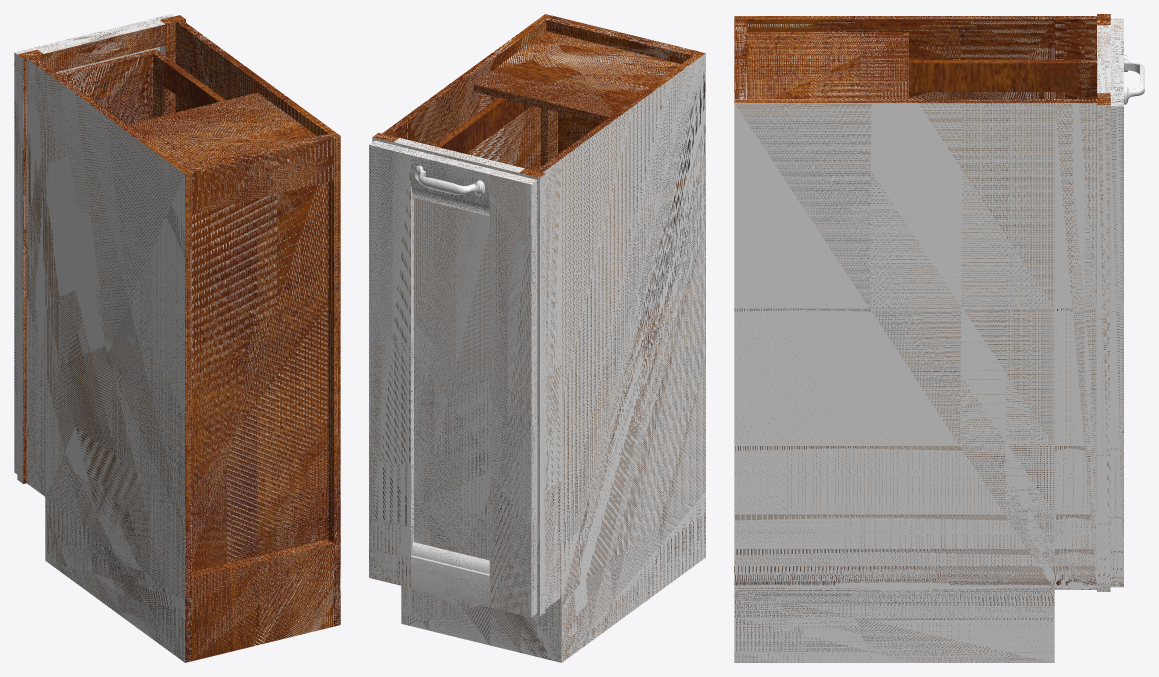
The picture shows the model from 3 angles, left to right: view 1: azimuth 30°, elevation 25°; view 2: azimuth 150°, elevation 25°; view 3: azimuth 270°, elevation 25°; orthographic projection. The views are drawn at different scales.
Parts seen in each view (by area): view 1: mesh7_mesh7-geometry, mesh4_mesh4-geometry, mesh12_mesh12-geometry, mesh8_mesh8-geometry, mesh10_mesh10-geometry, mesh6_mesh6-geometry, mesh14_mesh14-geometry, mesh3_mesh3-geometry, mesh2_mesh2-geometry, mesh18_mesh18-geometry, mesh5_mesh5-geometry, mesh22_mesh22-geometry (+3 smaller); view 2: mesh7_mesh7-geometry, mesh26_mesh26-geometry, mesh22_mesh22-geometry, mesh24_mesh24-geometry, mesh14_mesh14-geometry, mesh8_mesh8-geometry, mesh10_mesh10-geometry, mesh6_mesh6-geometry, mesh13_mesh13-geometry, mesh2_mesh2-geometry, mesh23_mesh23-geometry, mesh21_mesh21-geometry (+6 smaller); view 3: mesh10_mesh10-geometry, mesh11_mesh11-geometry, mesh9_mesh9-geometry, mesh14_mesh14-geometry, mesh7_mesh7-geometry, mesh2_mesh2-geometry, mesh24_mesh24-geometry, mesh15_mesh15-geometry, mesh6_mesh6-geometry, mesh3_mesh3-geometry, mesh5_mesh5-geometry, mesh17_mesh17-geometry (+1 smaller).
Boxes of the visible parts, bbox=[...] form: mesh7_mesh7-geometry: bbox=[45, 70, 191, 598]; mesh4_mesh4-geometry: bbox=[192, 181, 328, 572]; mesh12_mesh12-geometry: bbox=[192, 539, 333, 661]; mesh8_mesh8-geometry: bbox=[45, 497, 191, 662]; mesh10_mesh10-geometry: bbox=[194, 34, 340, 562]; mesh6_mesh6-geometry: bbox=[26, 56, 51, 496]; mesh14_mesh14-geometry: bbox=[127, 92, 316, 167]; mesh3_mesh3-geometry: bbox=[186, 133, 333, 214]; mesh2_mesh2-geometry: bbox=[17, 15, 185, 483]; mesh18_mesh18-geometry: bbox=[57, 51, 153, 124]; mesh5_mesh5-geometry: bbox=[38, 20, 165, 72]; mesh22_mesh22-geometry: bbox=[14, 42, 60, 473]; mesh7_mesh7-geometry: bbox=[555, 51, 705, 596]; mesh26_mesh26-geometry: bbox=[414, 198, 489, 560]; mesh22_mesh22-geometry: bbox=[489, 170, 537, 617]; mesh24_mesh24-geometry: bbox=[369, 140, 416, 587]; mesh14_mesh14-geometry: bbox=[473, 31, 681, 122]; mesh8_mesh8-geometry: bbox=[554, 492, 705, 662]; mesh10_mesh10-geometry: bbox=[401, 14, 551, 170]; mesh6_mesh6-geometry: bbox=[536, 157, 561, 608]; mesh13_mesh13-geometry: bbox=[408, 587, 554, 660]; mesh2_mesh2-geometry: bbox=[372, 132, 545, 616]; mesh23_mesh23-geometry: bbox=[411, 542, 489, 607]; mesh21_mesh21-geometry: bbox=[411, 151, 494, 215]; mesh10_mesh10-geometry: bbox=[734, 99, 1054, 589]; mesh11_mesh11-geometry: bbox=[734, 590, 1054, 662]; mesh9_mesh9-geometry: bbox=[1054, 99, 1096, 589]; mesh14_mesh14-geometry: bbox=[747, 32, 908, 98]; mesh7_mesh7-geometry: bbox=[734, 16, 1054, 98]; mesh2_mesh2-geometry: bbox=[1097, 14, 1110, 591]; mesh24_mesh24-geometry: bbox=[1110, 83, 1123, 587]; mesh15_mesh15-geometry: bbox=[909, 59, 1078, 91]; mesh6_mesh6-geometry: bbox=[1054, 16, 1096, 98]; mesh3_mesh3-geometry: bbox=[734, 19, 747, 98]; mesh5_mesh5-geometry: bbox=[1097, 25, 1110, 93]; mesh17_mesh17-geometry: bbox=[1079, 59, 1096, 98].
Size of the model in its own units: 0.2783 by 0.8002 by 0.5313.
